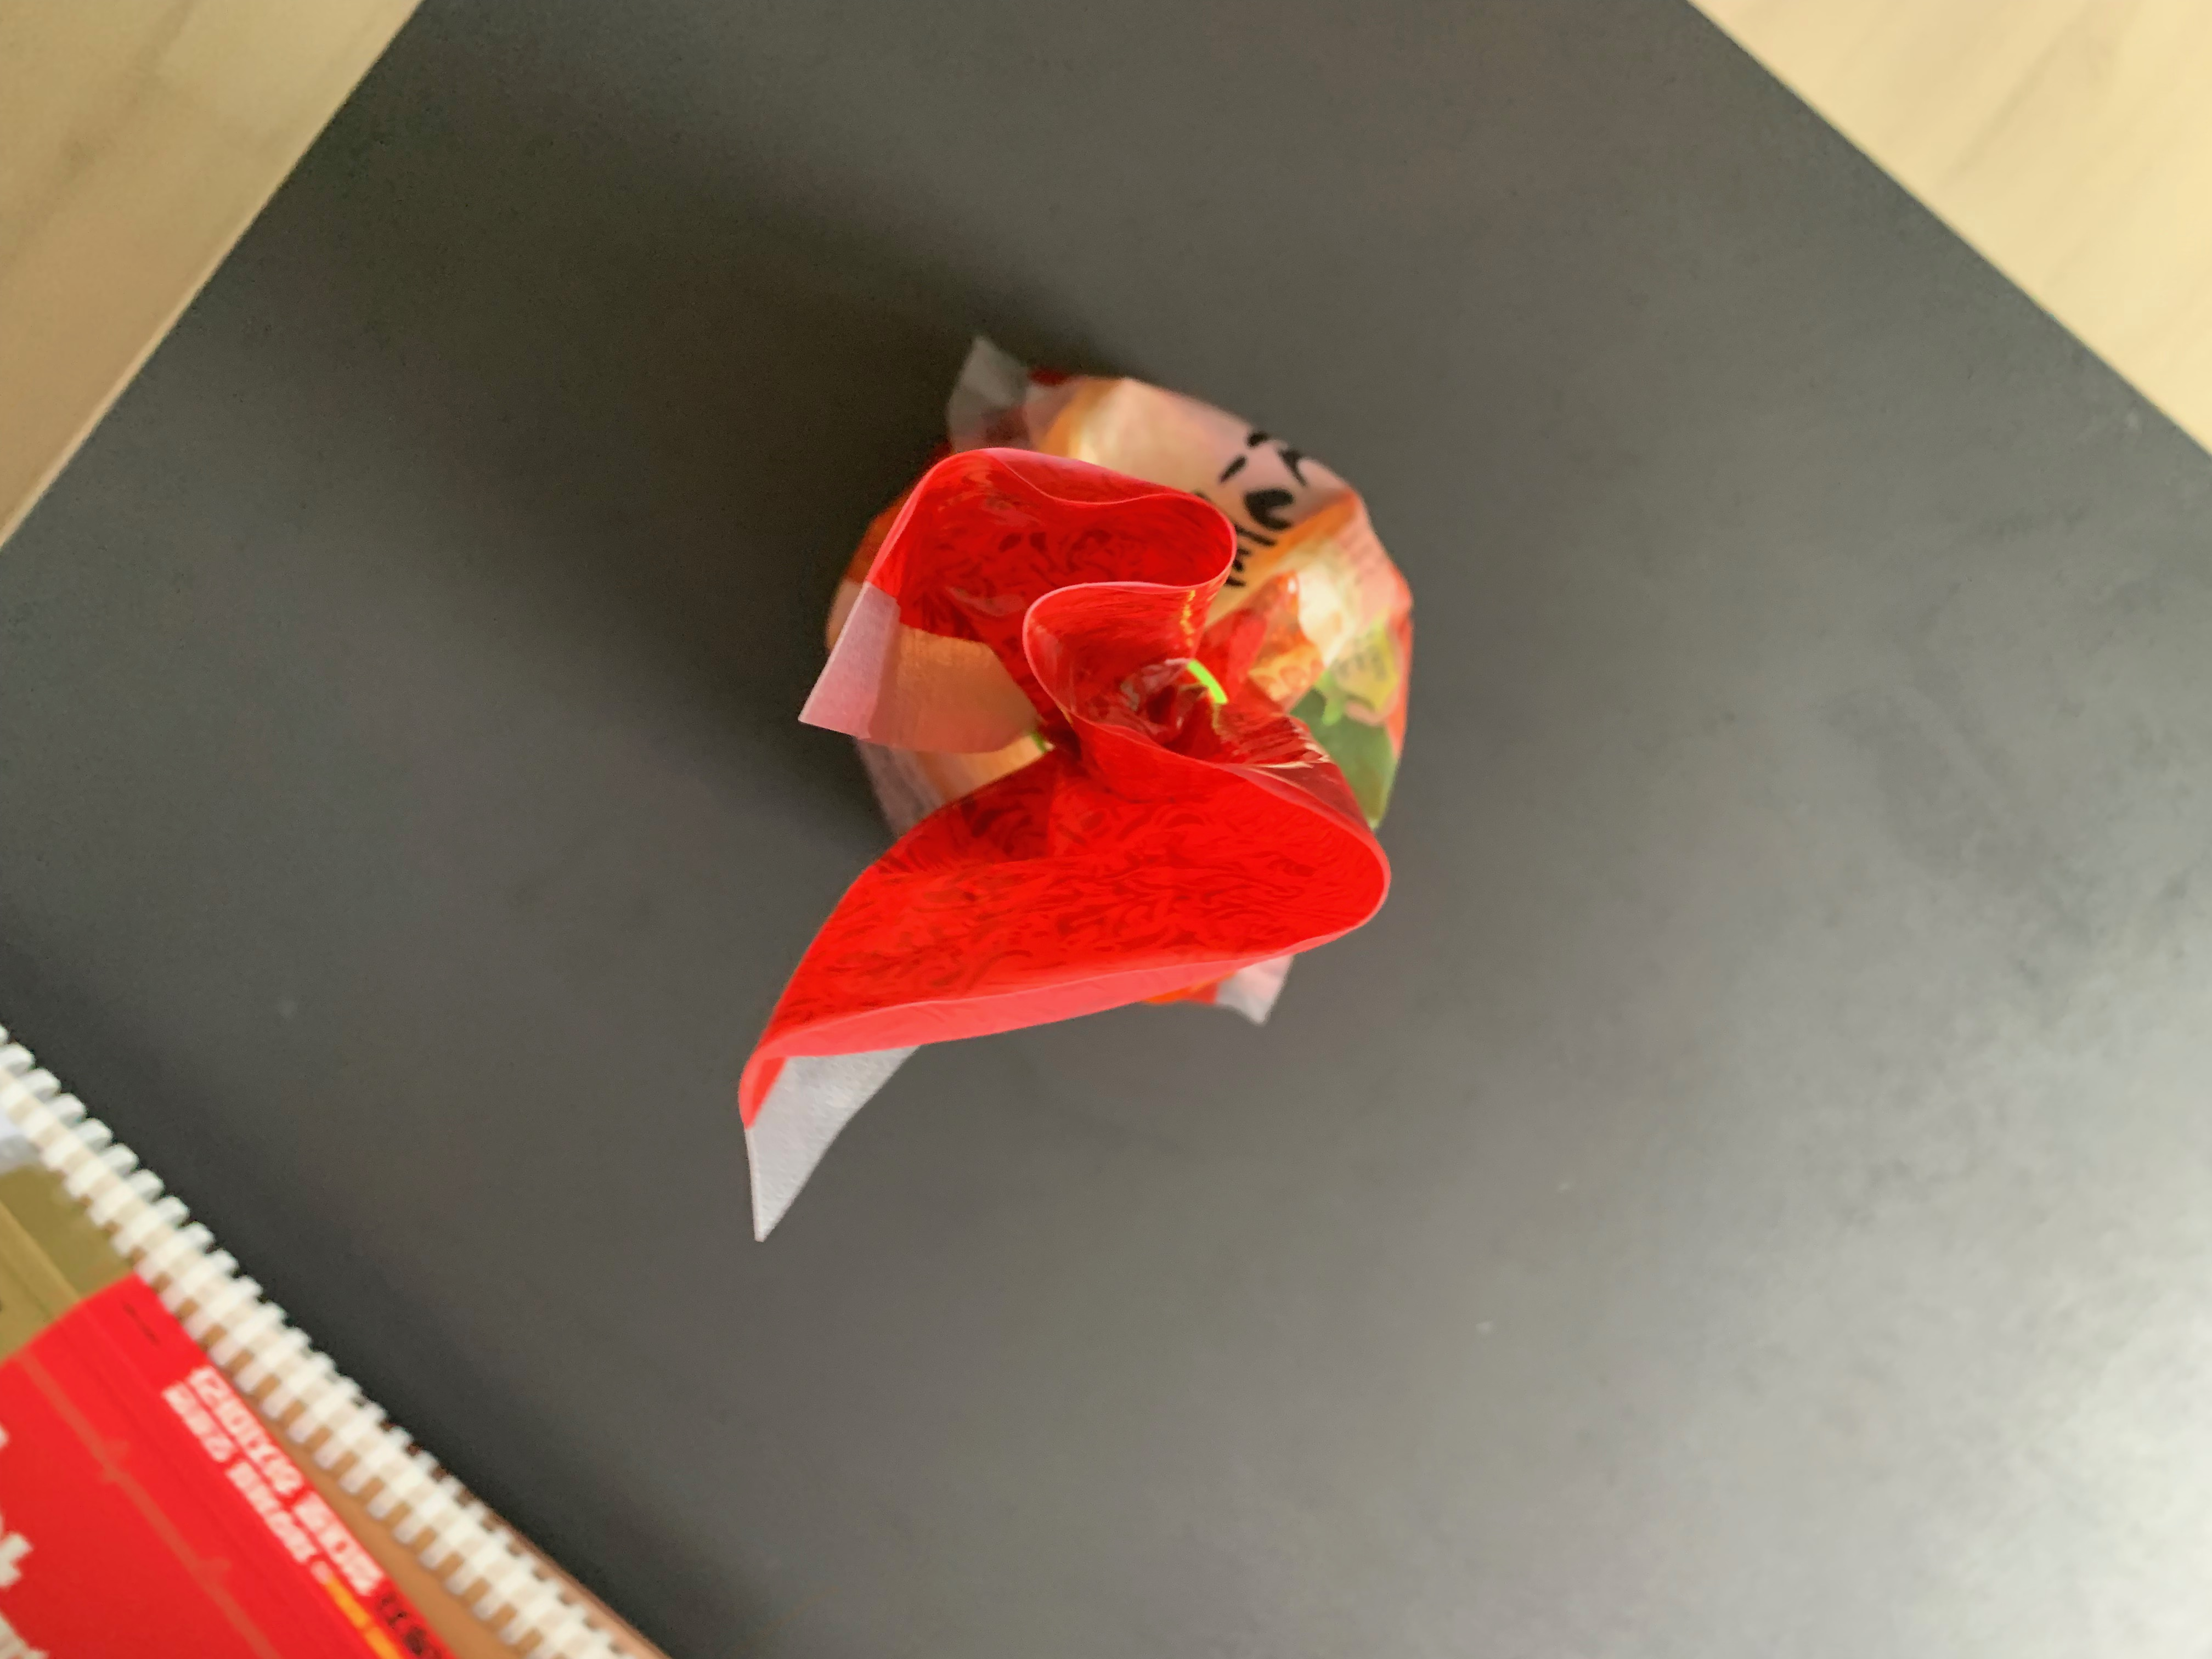kimchi: (775, 369, 1420, 1066)
